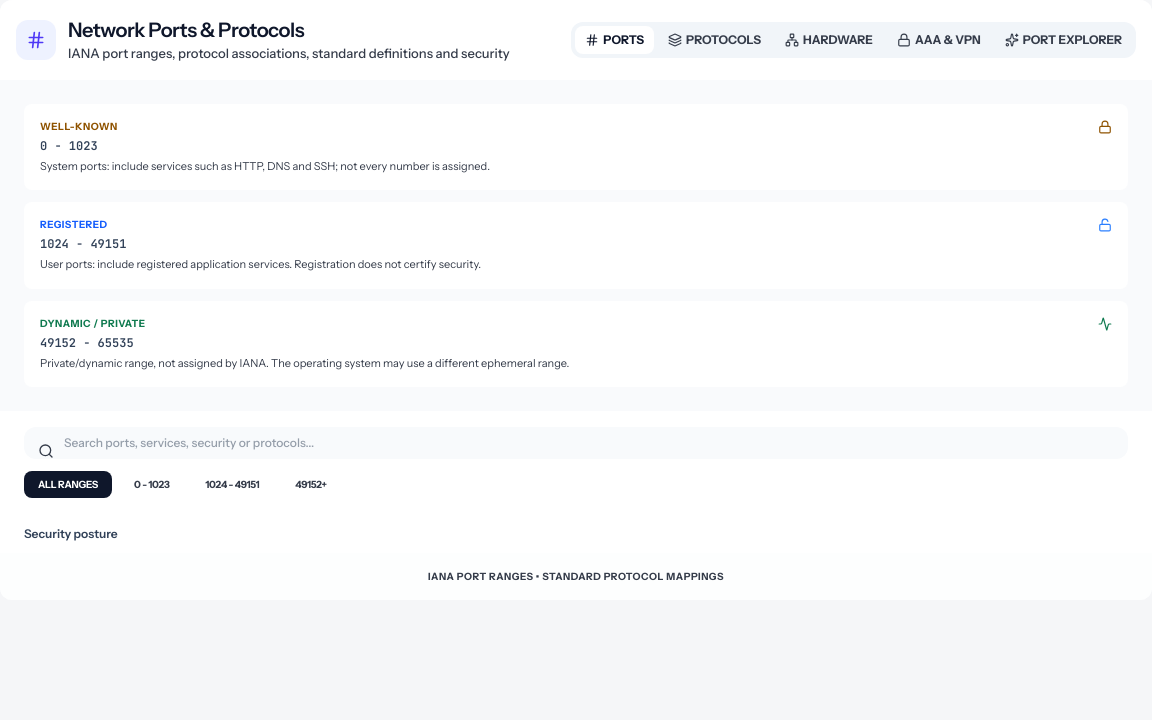
Test: PortsExplorer IANA metadata › shows TCP 8080 as the assigned http-alt service
Type "8080" into the field with placeholder "Search ports, services, security or protocols...".
click(576, 443); type("8080")  # box [24, 427, 1128, 459]
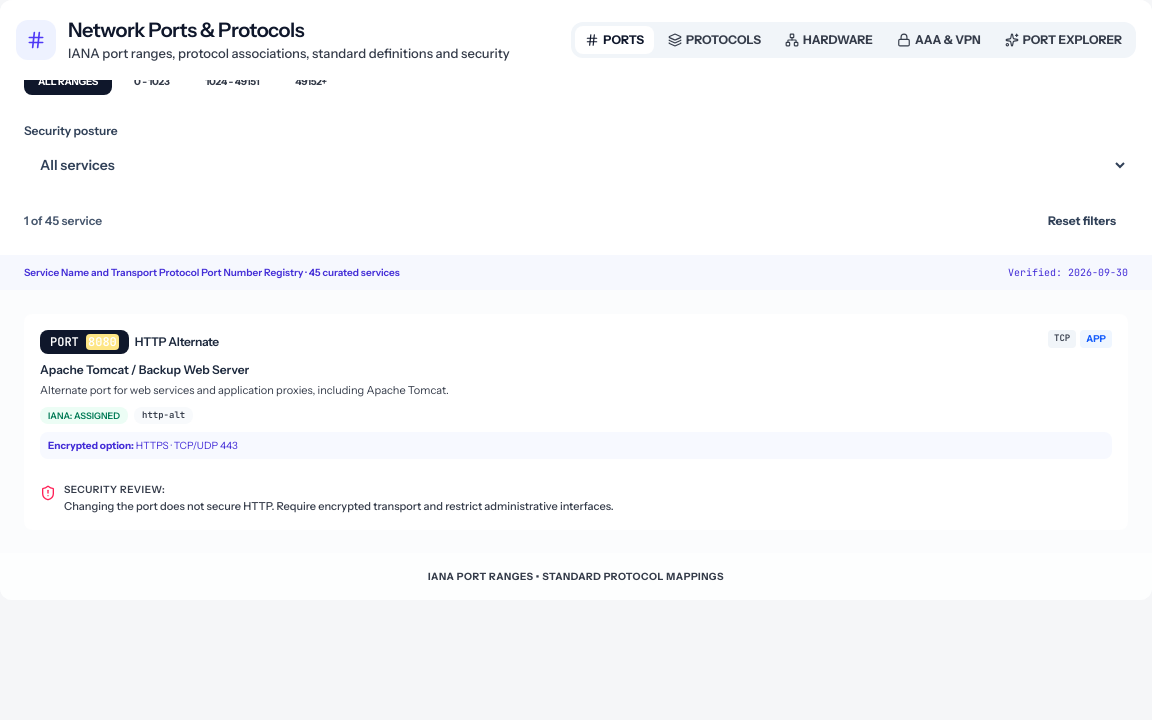
Expected: the text "IANA: assigned" is shown, [40, 406, 128, 424]
Expected: the text "http-alt" is shown, [134, 406, 193, 424]
Expected: the text "8080" is shown, [86, 334, 119, 350]
